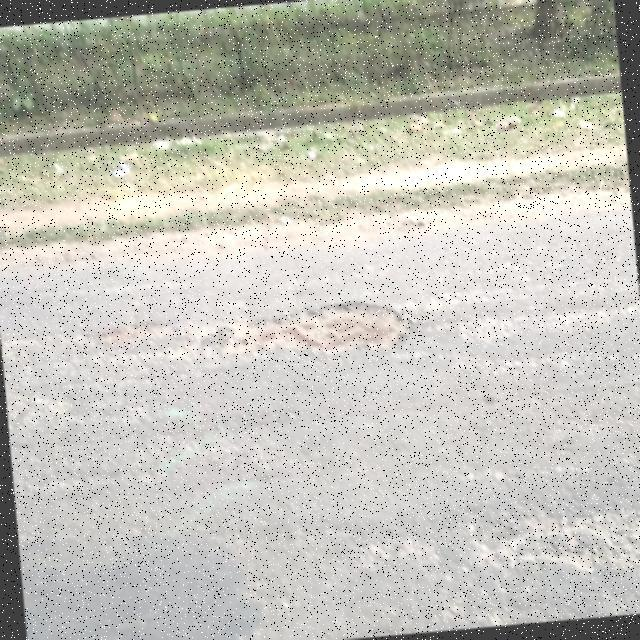Pothole: (201, 301, 409, 360)
